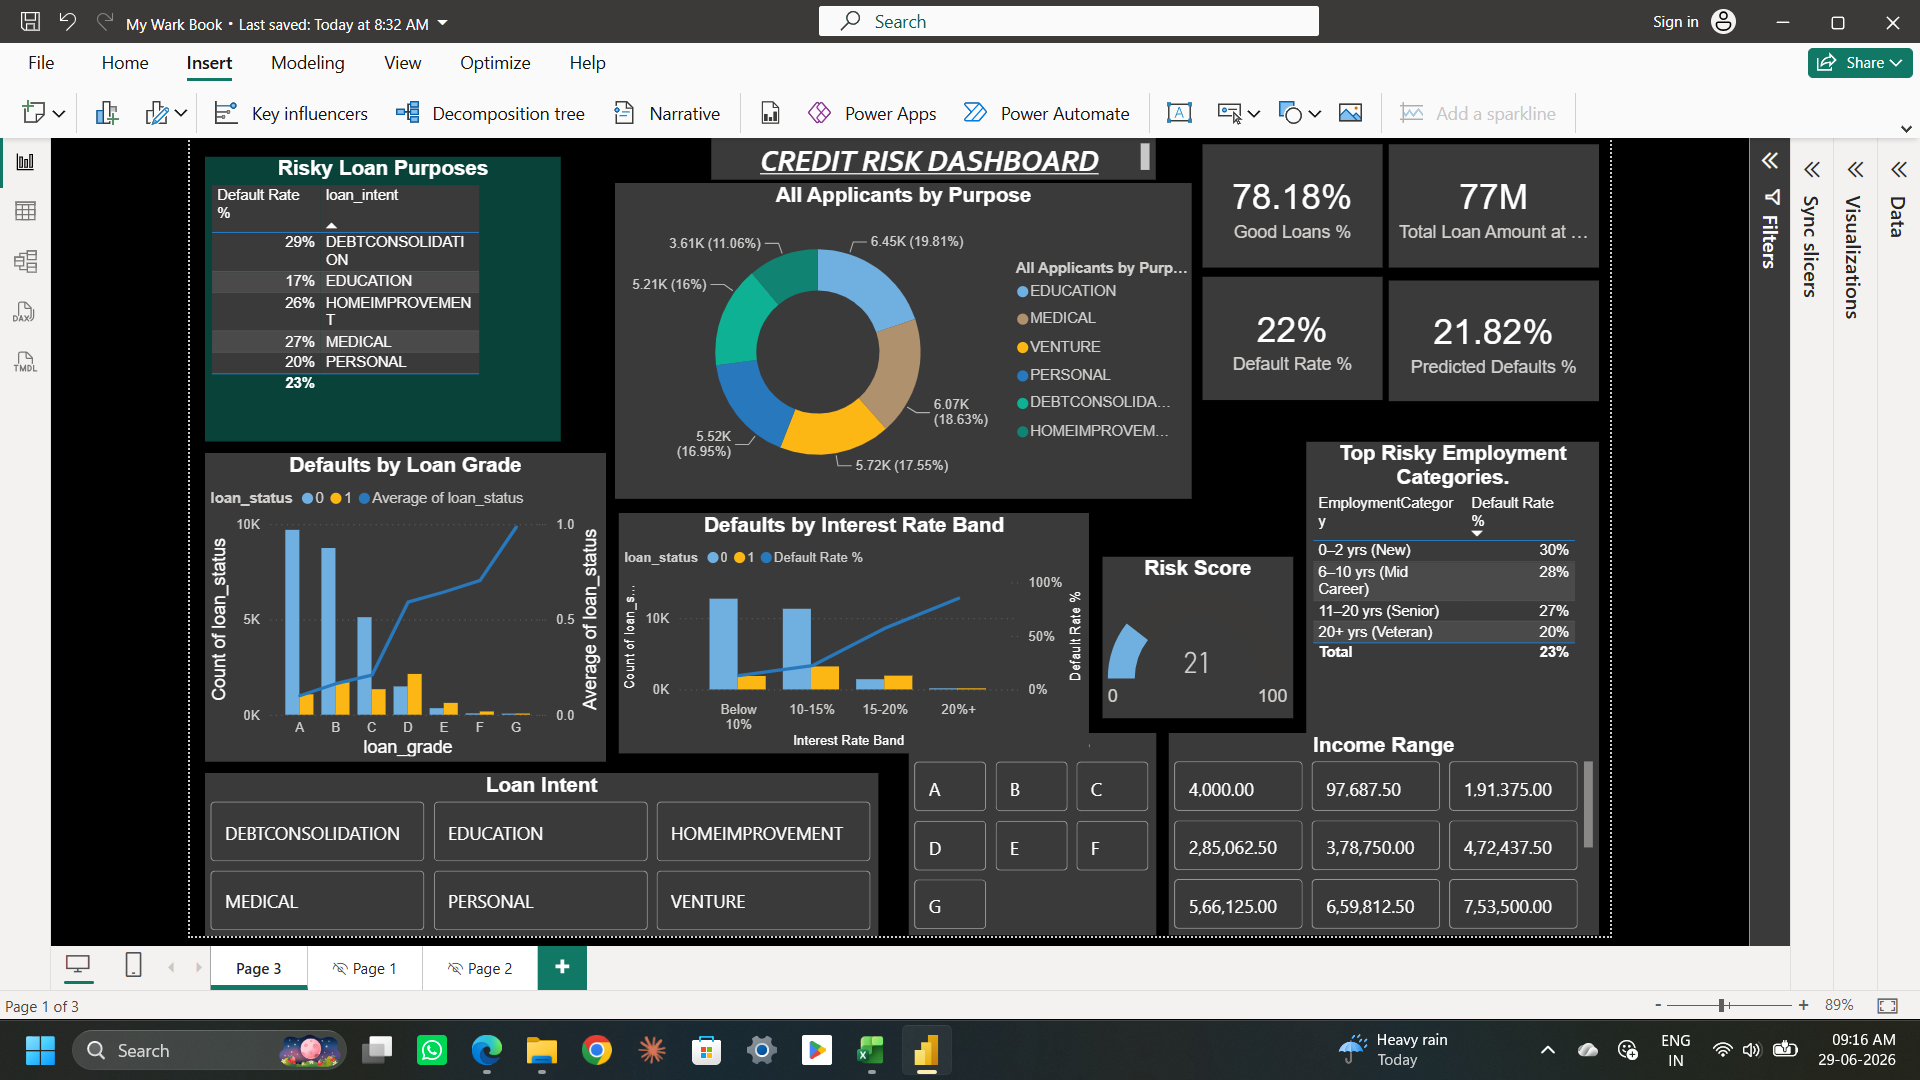

This screenshot's page, from the dashboard's own definition file:
{"tool":"powerbi","page":{"name":"Page 3","canvas":[1280,720],"ordinal":0},"visuals":[{"type":"textbox","box":[470.5,0,400.6,37.9],"z":0},{"type":"card","fields":{"Values":["new_credit_risk_dataset.Good Loans %"]},"box":[912.6,5.9,162.4,111.4],"z":1000},{"type":"card","fields":{"Values":["new_credit_risk_dataset.Predicted Defaults %"]},"box":[1080.9,128,189.6,109],"z":2000},{"type":"card","fields":{"Values":["new_credit_risk_dataset.Default Rate %"]},"box":[912.6,125.6,162.4,111.4],"z":3000},{"type":"card","fields":{"Values":["new_credit_risk_dataset.Total Loan Amount at Risk"]},"box":[1080.9,5.9,189.6,111.4],"z":4000},{"type":"lineClusteredColumnComboChart","title":"Defaults by Loan Grade","fields":{"Category":["new_credit_risk_dataset.loan_grade"],"Series":["new_credit_risk_dataset.loan_status"],"Y":["CountNonNull(new_credit_risk_dataset.loan_status)"],"Y2":["Avg(new_credit_risk_dataset.loan_status)"]},"box":[13,284.4,361.5,278.5],"z":5000},{"type":"donutChart","title":"All Applicants by Purpose","fields":{"Y":["CountNonNull(new_credit_risk_dataset.loan_status)"],"Category":["new_credit_risk_dataset.loan_intent"]},"box":[382.8,40.3,520.3,284.4],"z":6000},{"type":"gauge","title":"Risk Score ","fields":{"Y":["new_credit_risk_dataset.Risk Score","select"],"MinValue":["new_credit_risk_dataset.Gauge_Min"],"MaxValue":["new_credit_risk_dataset.Gauge_Max"]},"box":[822.5,378.1,171.9,145.8],"z":7000},{"type":"tableEx","title":"Risky Loan Purposes","fields":{"Values":["new_credit_risk_dataset.Default Rate %","new_credit_risk_dataset.loan_intent"]},"box":[13,16.6,321.2,257.2],"z":8000},{"type":"tableEx","title":"Top Risky Employment Categories.","fields":{"Values":["new_credit_risk_dataset.EmploymentCategory","new_credit_risk_dataset.Default Rate %"]},"box":[1006.2,273.8,264.3,263.1],"z":9000},{"type":"advancedSlicerVisual","title":"Loan Intent","fields":{"Values":["new_credit_risk_dataset.loan_intent"]},"box":[13,572.4,606.8,147],"z":10000},{"type":"advancedSlicerVisual","title":"Loan Grade","fields":{"Values":["new_credit_risk_dataset.loan_grade"]},"box":[648.1,536.5,223.2,182.6],"z":11000},{"type":"advancedSlicerVisual","title":"Income Range ","fields":{"Values":["new_credit_risk_dataset.Income_Band"]},"box":[882.5,536.5,387.7,182.6],"z":12000},{"type":"lineClusteredColumnComboChart","title":"Defaults by Interest Rate Band","fields":{"Y":["CountNonNull(new_credit_risk_dataset.loan_status)"],"Series":["new_credit_risk_dataset.loan_status"],"Y2":["new_credit_risk_dataset.Default Rate %"],"Category":["new_credit_risk_dataset.Interest Rate Band"]},"box":[386.4,337.8,424.3,216.9],"z":13000}]}

Visuals, with their boxes on the page's 1280x720 design canvas (x1, y1, x2, y2). These are canvas units, not pixel positions in the 1920x1080 screenshot, which may show the page scaled, cropped or inside an application window:
textbox: rect(470, 0, 871, 38)
card - new_credit_risk_dataset.Good Loans %: rect(913, 6, 1075, 117)
card - new_credit_risk_dataset.Predicted Defaults %: rect(1081, 128, 1270, 237)
card - new_credit_risk_dataset.Default Rate %: rect(913, 126, 1075, 237)
card - new_credit_risk_dataset.Total Loan Amount at Risk: rect(1081, 6, 1270, 117)
"Defaults by Loan Grade" lineClusteredColumnComboChart: rect(13, 284, 374, 563)
"All Applicants by Purpose" donutChart: rect(383, 40, 903, 325)
"Risk Score " gauge: rect(822, 378, 994, 524)
"Risky Loan Purposes" tableEx: rect(13, 17, 334, 274)
"Top Risky Employment Categories." tableEx: rect(1006, 274, 1270, 537)
"Loan Intent" advancedSlicerVisual: rect(13, 572, 620, 719)
"Loan Grade" advancedSlicerVisual: rect(648, 536, 871, 719)
"Income Range " advancedSlicerVisual: rect(882, 536, 1270, 719)
"Defaults by Interest Rate Band" lineClusteredColumnComboChart: rect(386, 338, 811, 555)
